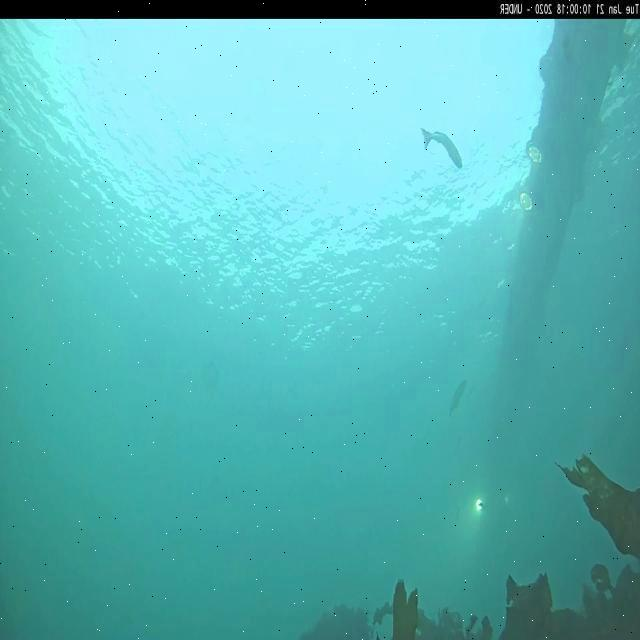fish: (419, 126, 465, 172), (448, 376, 468, 419)
